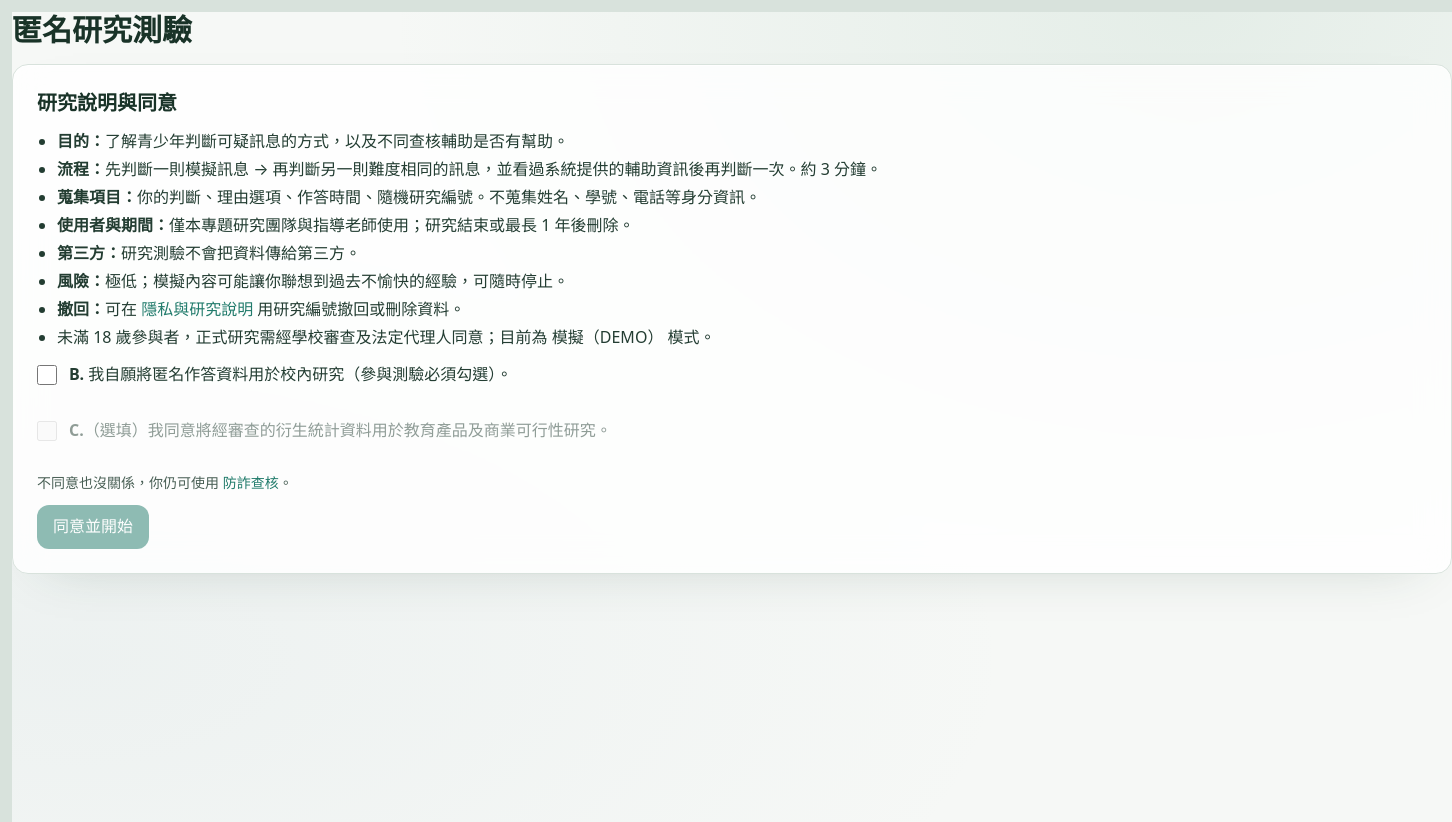
Test: Research page › requires consent B before starting
This screenshot has width=1452, height=822.
Expected: the button "同意並開始" is disabled, [37, 505, 149, 549]
Click the checkbox labelled "B. 我自願將匿名作答資料用於校內研究（參與測驗必須勾選）。". click: (47,375)
box: [37, 365, 57, 385]
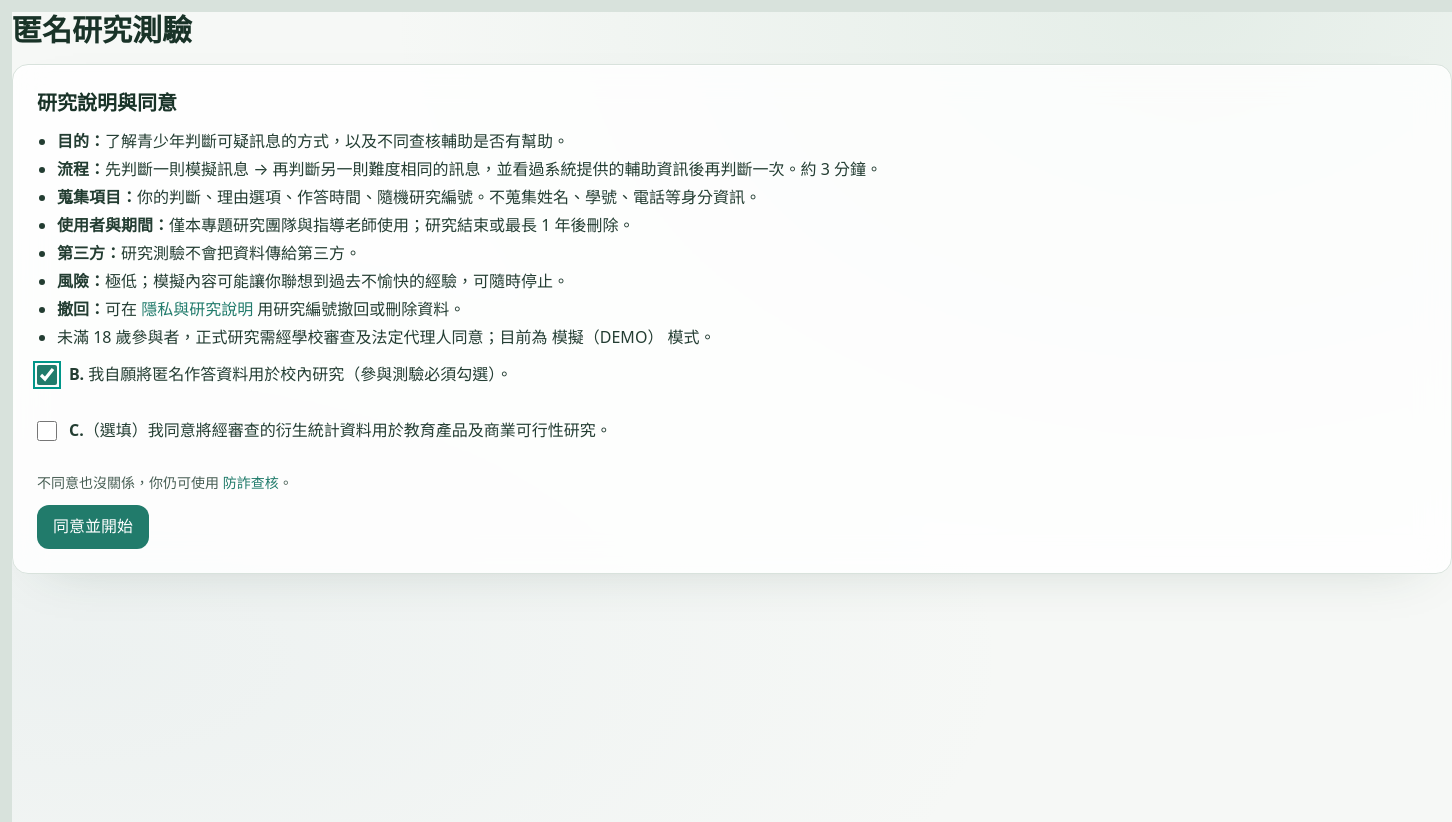
Now the button "同意並開始" is enabled, box [37, 505, 149, 549]
